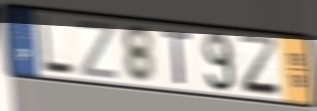8: (120, 22, 157, 85)
9: (202, 30, 238, 95)
L: (37, 14, 77, 78)
T: (161, 28, 193, 87)
Z: (237, 33, 284, 100), (76, 18, 119, 81)
